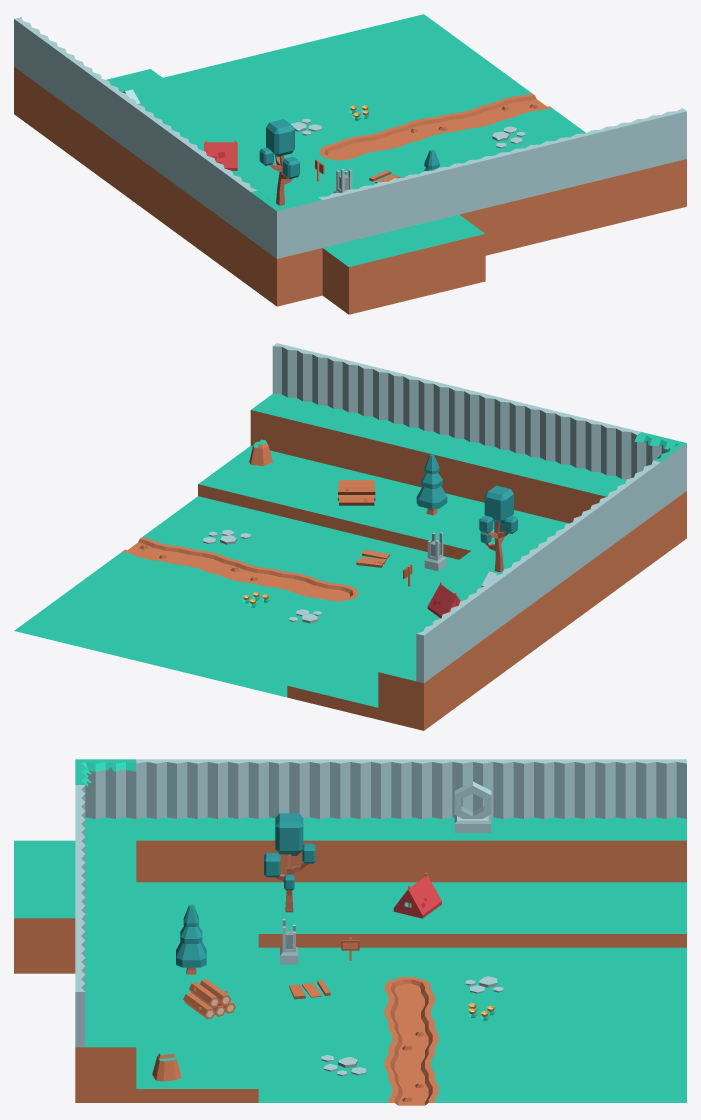
File: sample.glb
3 views of the same model, one above another, from view 1: azimuth 30°, elevation 25°; view 2: azimuth 150°, elevation 25°; view 3: azimuth 270°, elevation 25° (orthographic). The views are drawn at different scales.
Parts seen in each view (by area): view 1: mergedBlocks(Clone); view 2: mergedBlocks(Clone); view 3: mergedBlocks(Clone).
Part boxes in pixels (x1,y1,x2,y2): mergedBlocks(Clone): [14, 14, 686, 314]; mergedBlocks(Clone): [14, 343, 686, 730]; mergedBlocks(Clone): [14, 759, 686, 1105].
Size of the model in its own units: 9 by 2.05 by 11.
